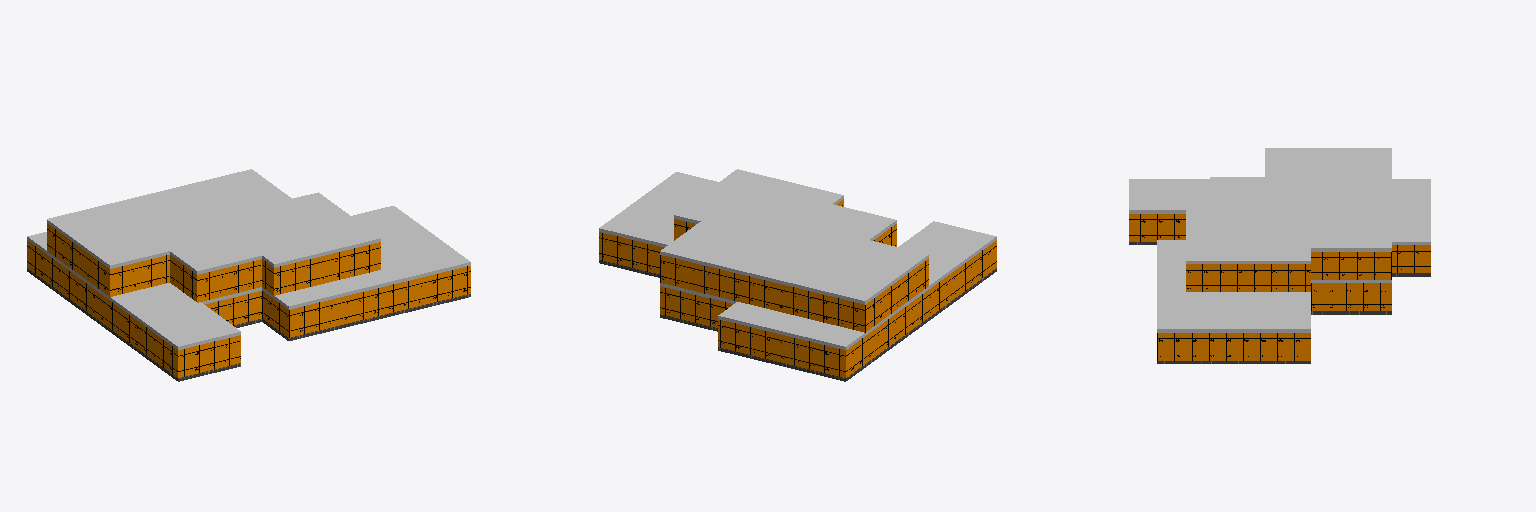
3 renders of one model, left to right at view 1: azimuth 30°, elevation 25°; view 2: azimuth 150°, elevation 25°; view 3: azimuth 270°, elevation 25°, orthographic.
Visible parts, largest first — view 1: Cube.012, Cube.006, Cube.005, Cube.010, Cube; view 2: Cube.012, Cube.006, Cube.005, Cube.010, Cube; view 3: Cube.012, Cube.005, Cube.006, Cube.010, Cube.
Boxes of the visible parts, x1,y1,x2,y2 form: Cube.012: [47, 169, 380, 274]; Cube.006: [27, 240, 470, 377]; Cube.005: [27, 206, 470, 349]; Cube.010: [47, 223, 380, 302]; Cube: [27, 268, 470, 381]; Cube.012: [660, 169, 928, 304]; Cube.006: [599, 232, 996, 377]; Cube.005: [599, 172, 996, 349]; Cube.010: [660, 199, 928, 332]; Cube: [599, 260, 996, 381]; Cube.012: [1186, 148, 1391, 263]; Cube.005: [1129, 179, 1430, 332]; Cube.006: [1129, 214, 1430, 360]; Cube.010: [1186, 252, 1391, 291]; Cube: [1129, 242, 1430, 363].
Size of the model in its own units: 18.34 by 3.8 by 15.62.
Materials: 10 (6 with a texture image).